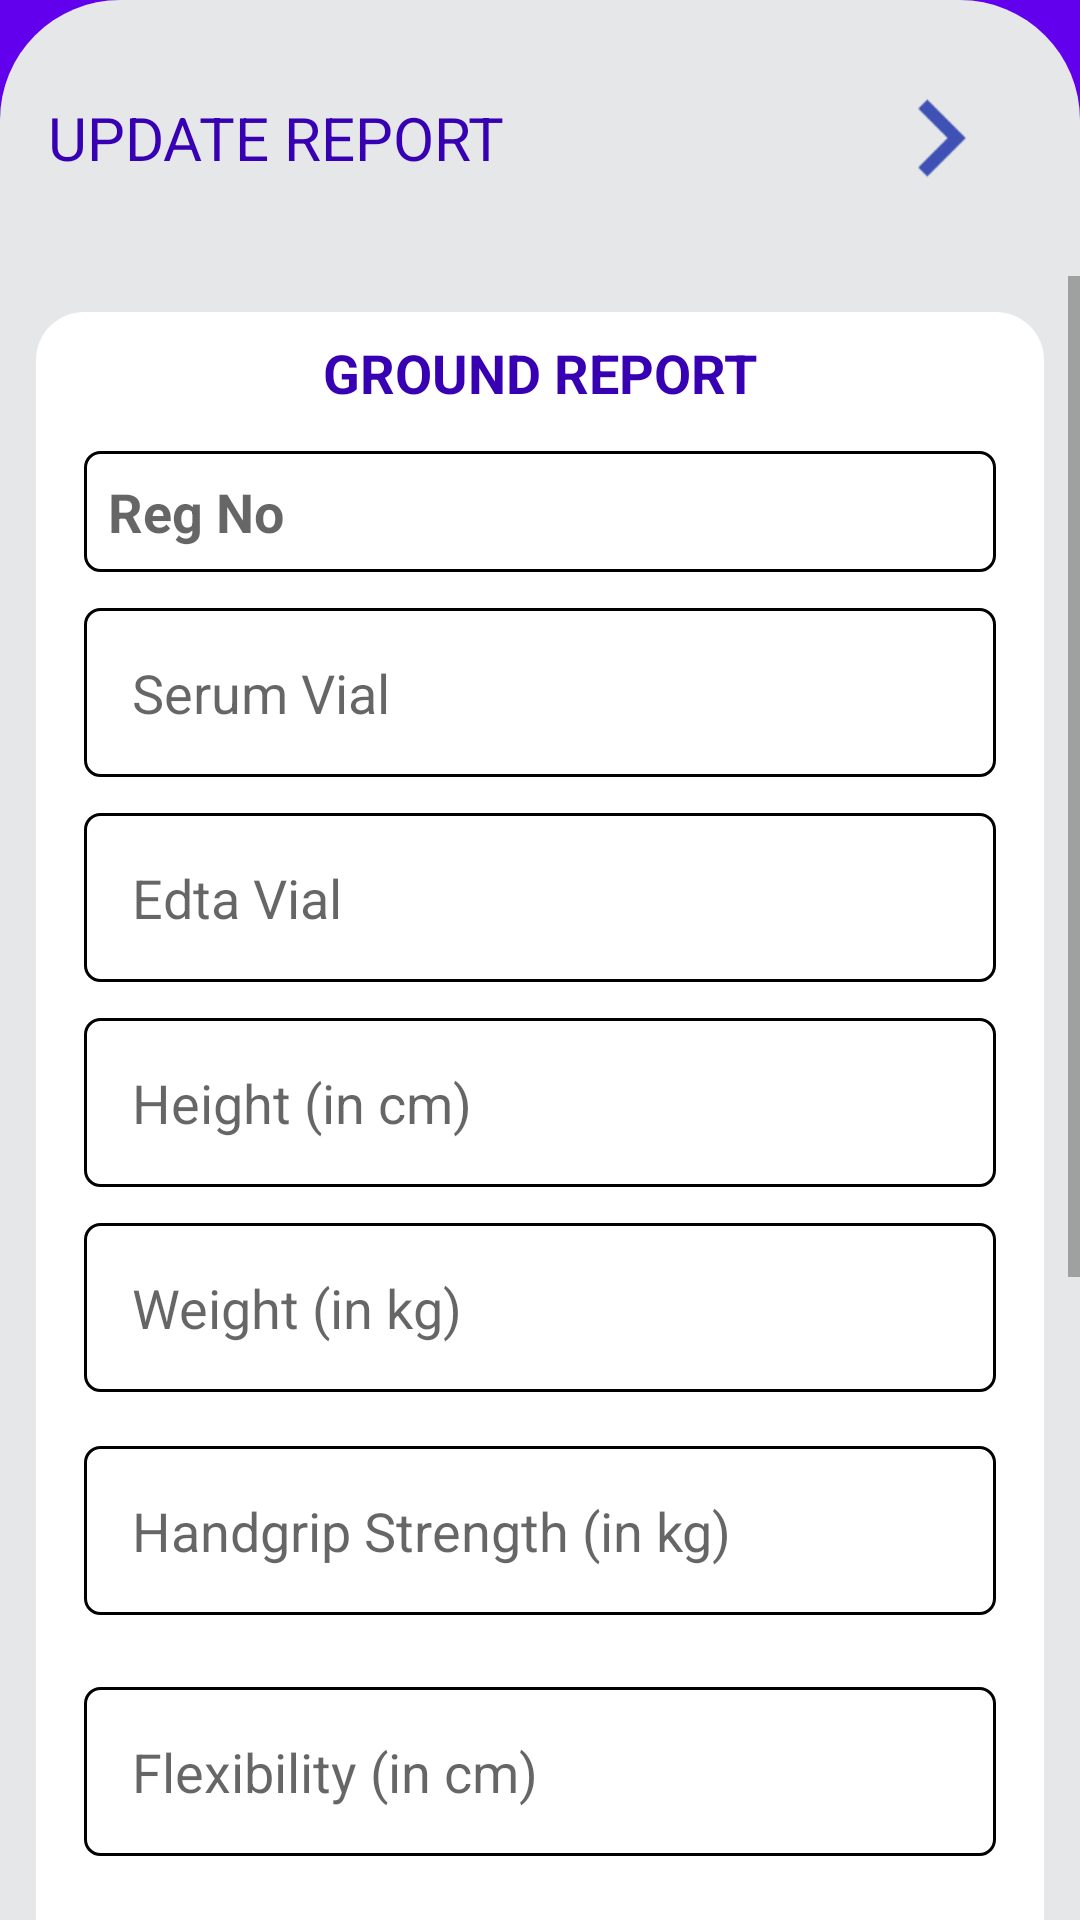

Where icons sit on this 1080×1920 app screen, as {"x1": x1, "y1": y1, "x2": x2, "y2": y2}:
navigate next: {"x1": 918, "y1": 99, "x2": 966, "y2": 177}
